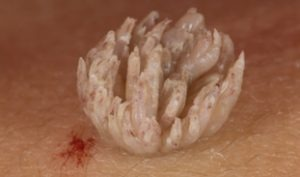Warts: (73, 0, 251, 160)
